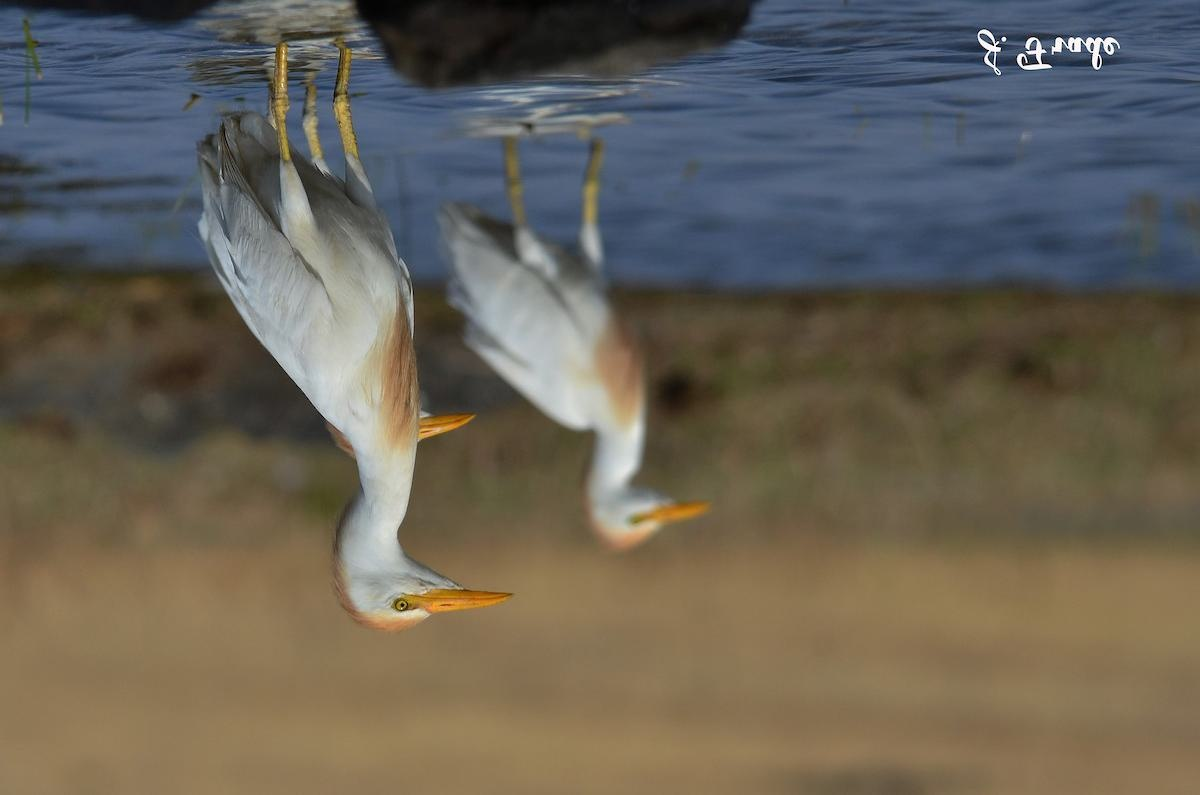egret: (164, 68, 517, 626), (450, 117, 721, 560)
